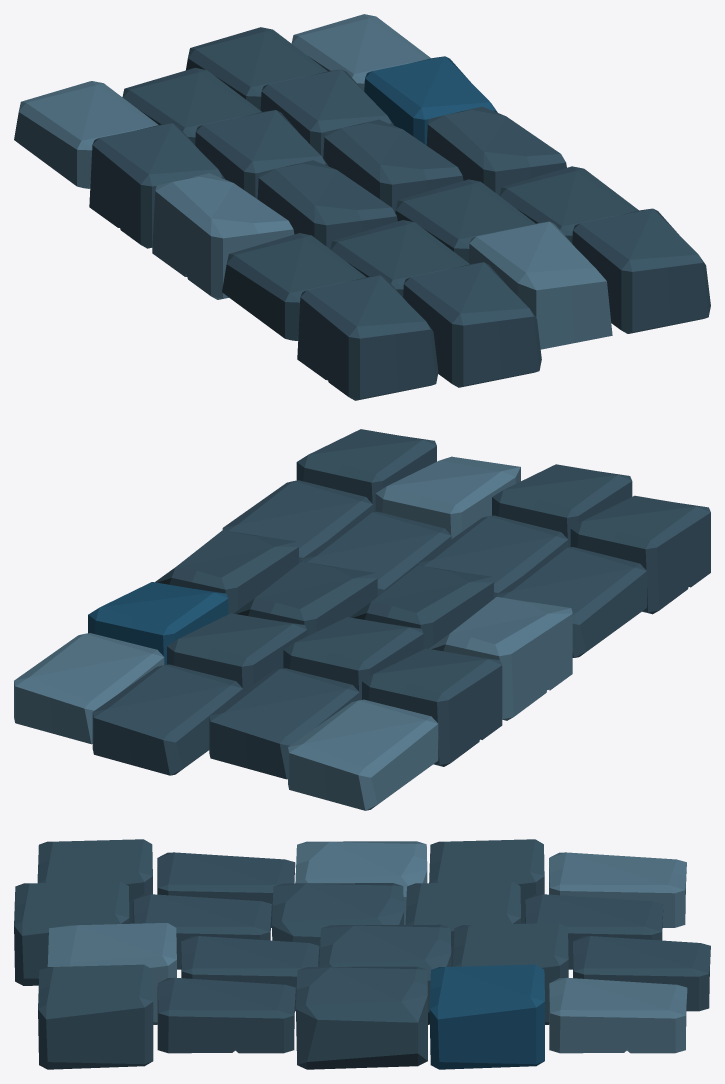
File: wall-short.fbx
3 renders of one model, top to bottom at view 1: azimuth 30°, elevation 25°; view 2: azimuth 150°, elevation 25°; view 3: azimuth 270°, elevation 25°, orthographic. The views are drawn at different scales.
Visible parts, largest first — view 1: stone-brick04.004; view 2: stone-brick04.004; view 3: stone-brick04.004.
Boxes of the visible parts, x1=… form: stone-brick04.004: x1=14, y1=14, x2=710, y2=400; stone-brick04.004: x1=14, y1=429, x2=710, y2=810; stone-brick04.004: x1=14, y1=839, x2=710, y2=1069.
Bounding box in the file's own units: 597 × 119 × 1052.
